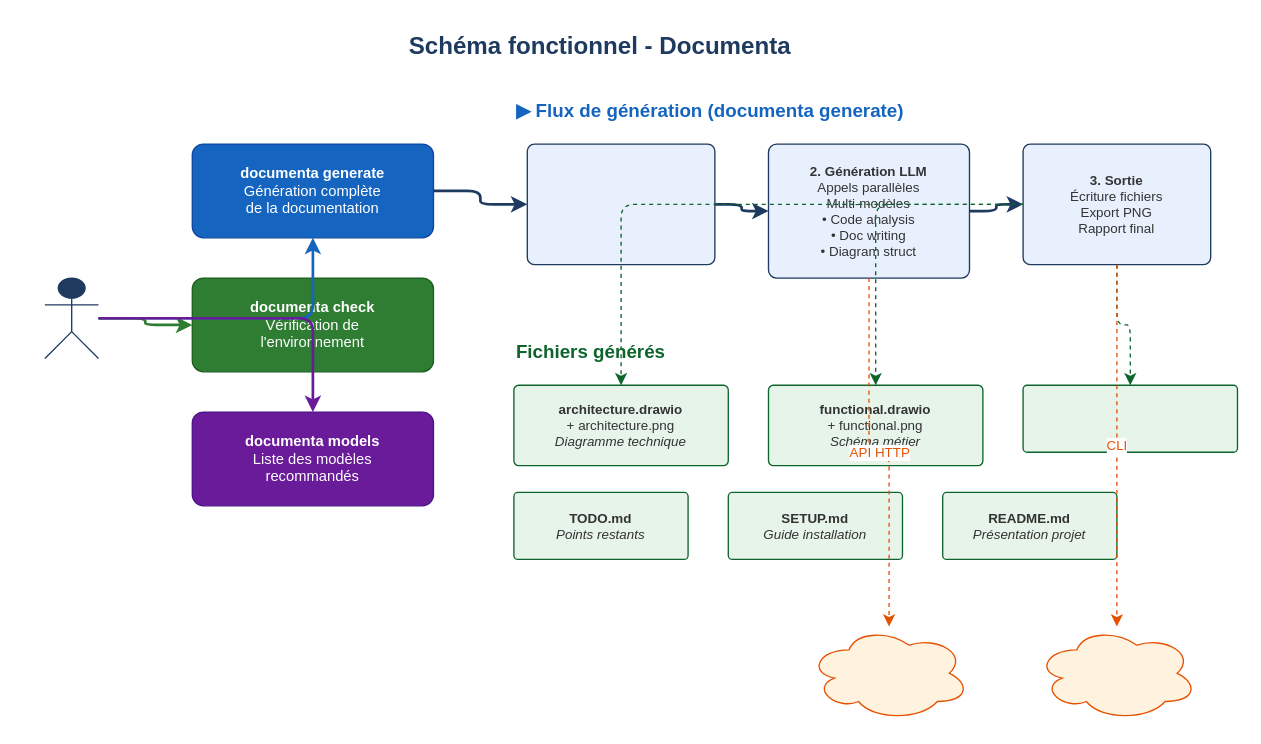
The diagram is 1261 pixels wide and 744 high, and some of its shapes have lost their labels. Here are the shapes that lost their labels. From the top down, the box of each, then its label:
(526, 143, 715, 265): 1. Analyse Scan des fichiers Détection stack Lecture du code Info Git
(44, 277, 98, 358): Développeur
(1022, 384, 1237, 452): DEVELOPMENT.md Doc technique détaillée
(807, 625, 969, 720): Ollama LLM local
(1035, 625, 1197, 720): draw.io PNG export
